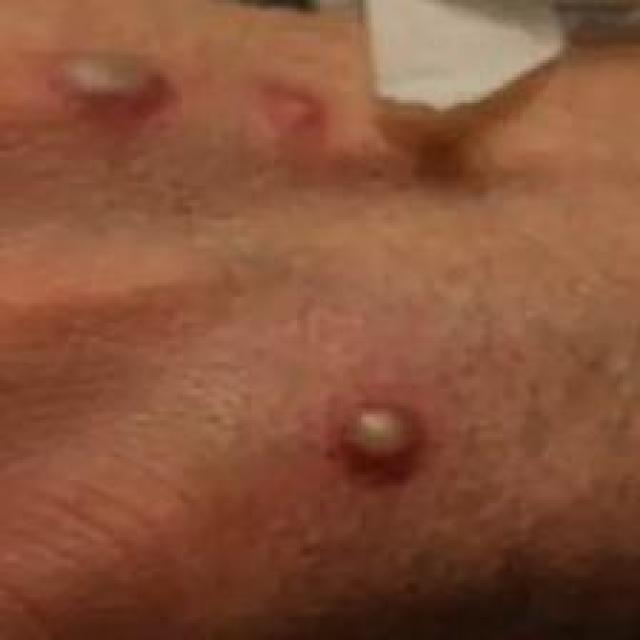monkeypox: (44, 37, 621, 584)
